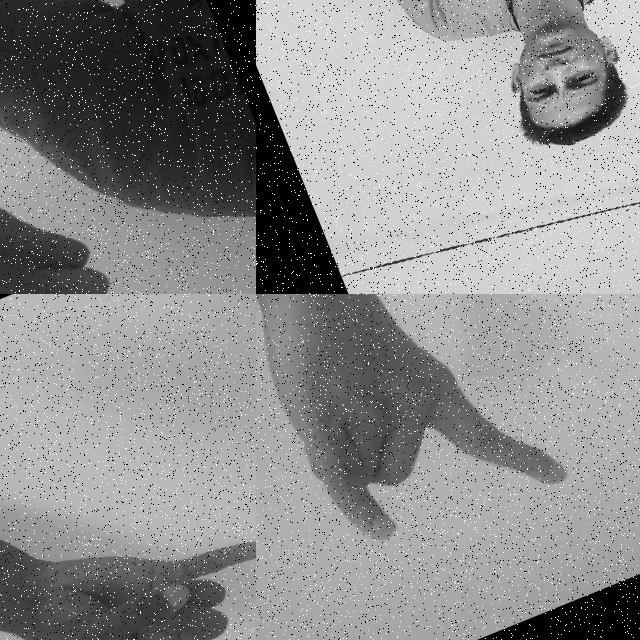Corna: (256, 294, 583, 579), (0, 438, 256, 640)
Reversed Victory: (0, 57, 245, 294)
Thumbs Up: (347, 0, 449, 30)
